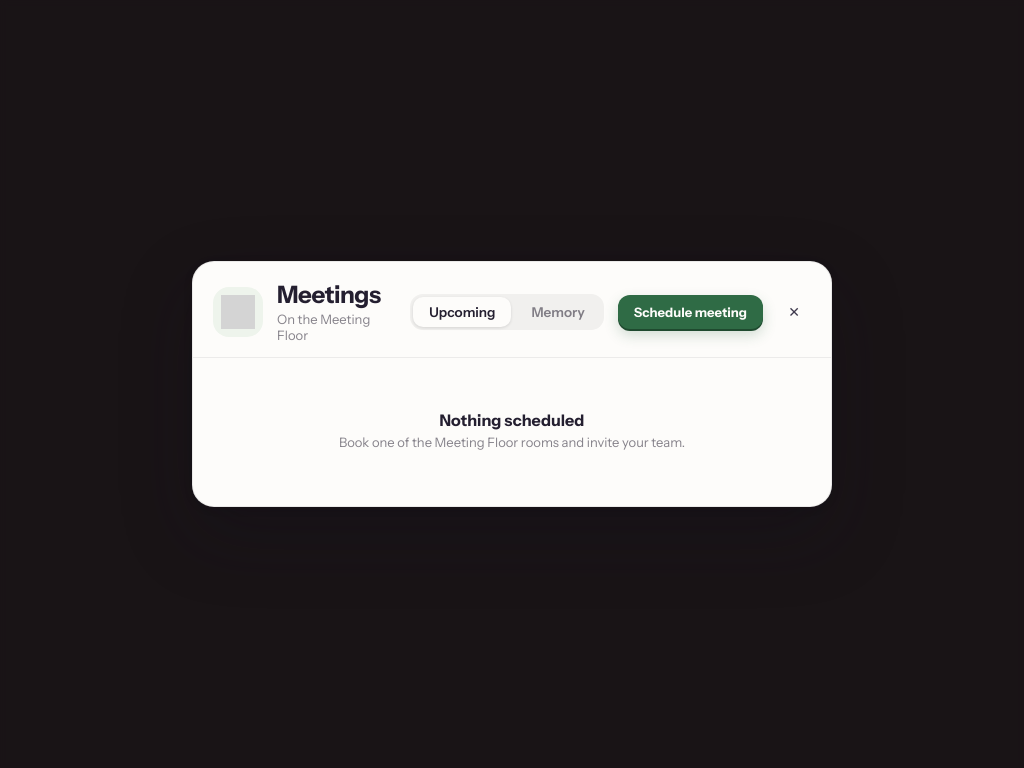
Scenario: Ask your Memory › a suggestion takes the same query path as typing
Click the tab "Memory". click: (558, 312)
box: [516,296,601,326]
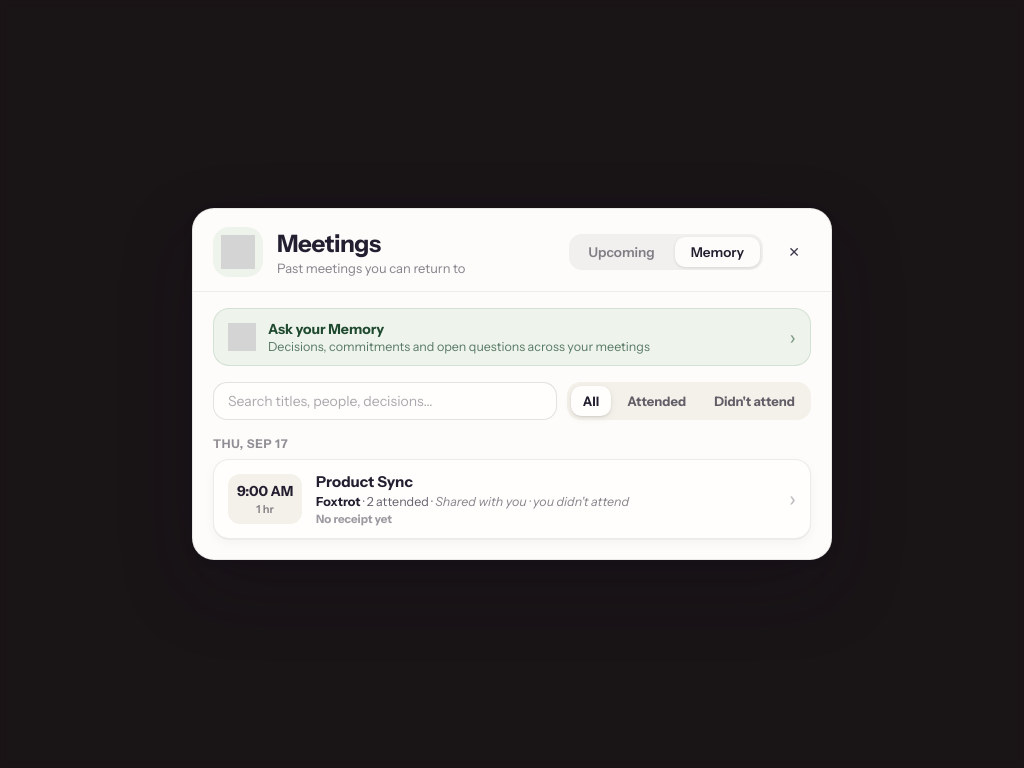
Type "launch" into the search field. click: (385, 401)
box: [213,382,557,420]
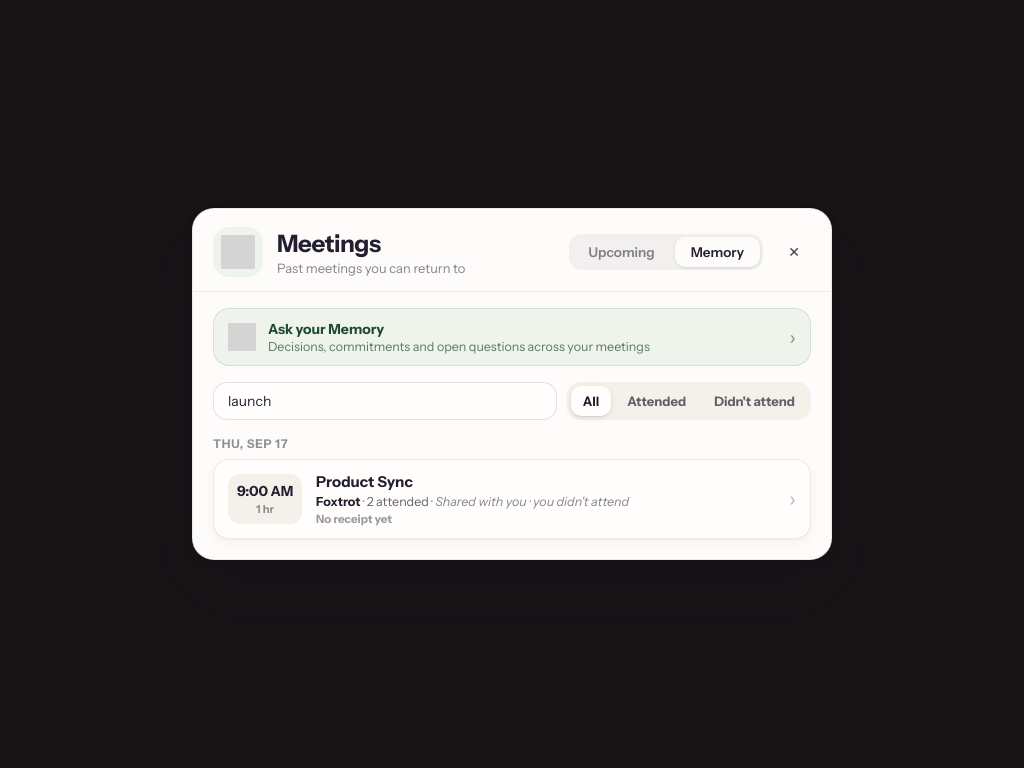
Click the button with test id "memory-ask". click: (512, 337)
box: [213,308,811,366]
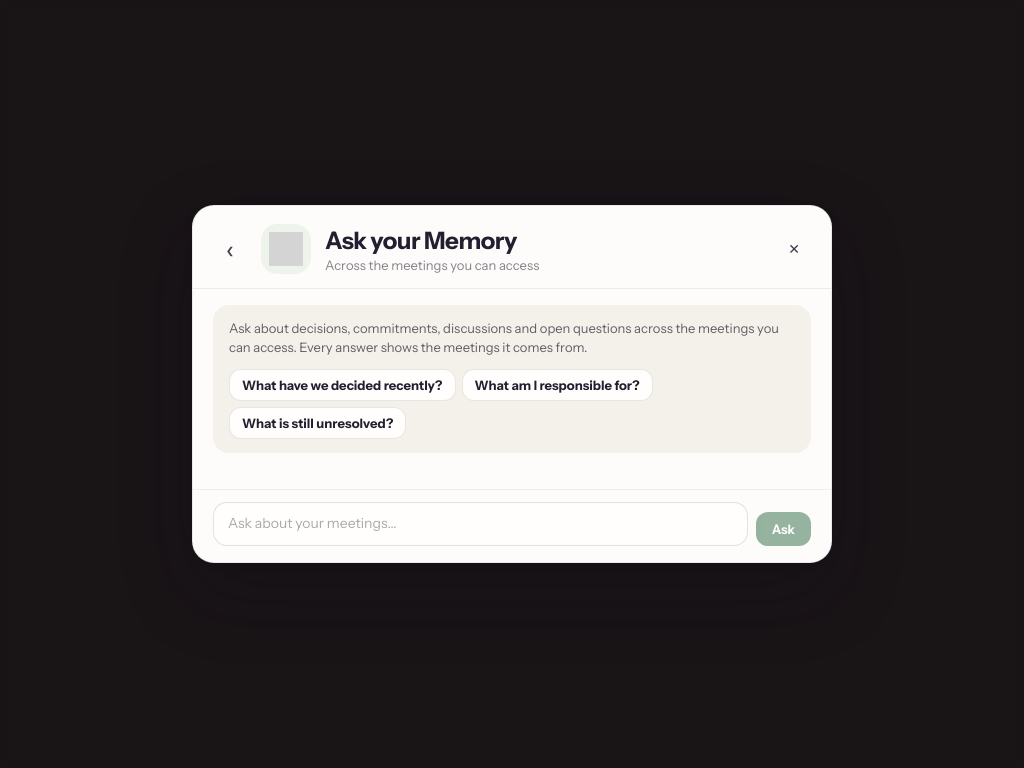
Expected: the element with test id "org-twin" is shown, [193,289,831,489]
Click the button with test id "orgtwin-suggestion" showing "What have we decided recently?". click: (342, 385)
box: [229,369,456,401]
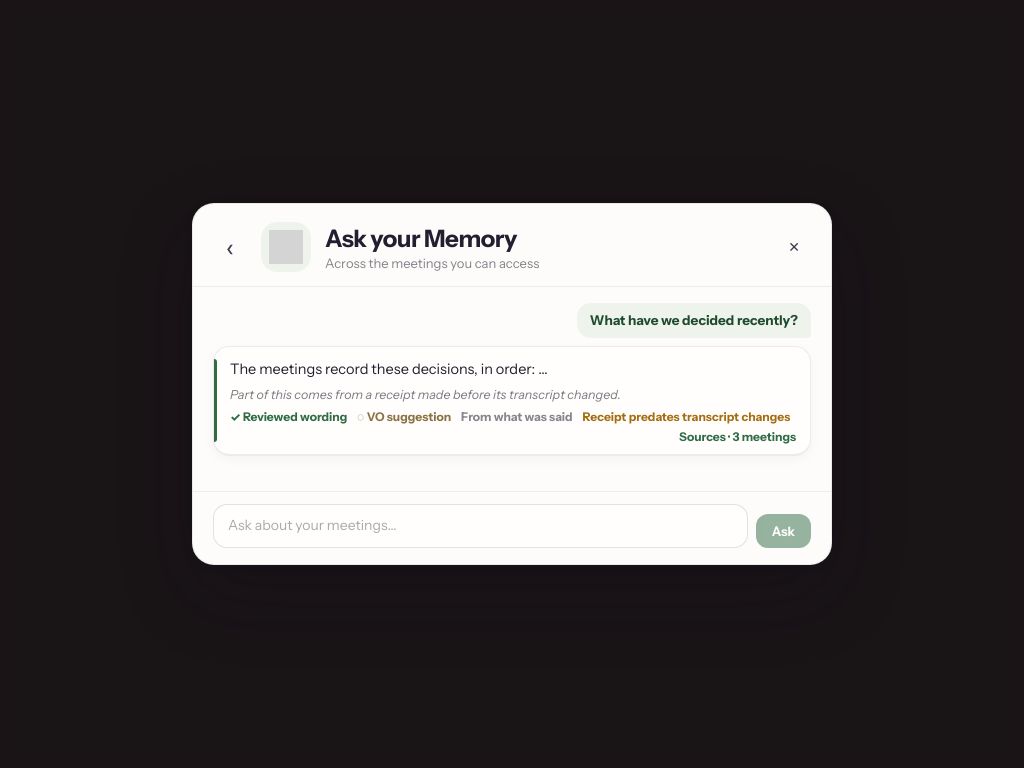
Expected: the element with test id "orgtwin-answer" is shown, [213,346,811,455]
Expected: the element with test id "orgtwin-intro" is gone
